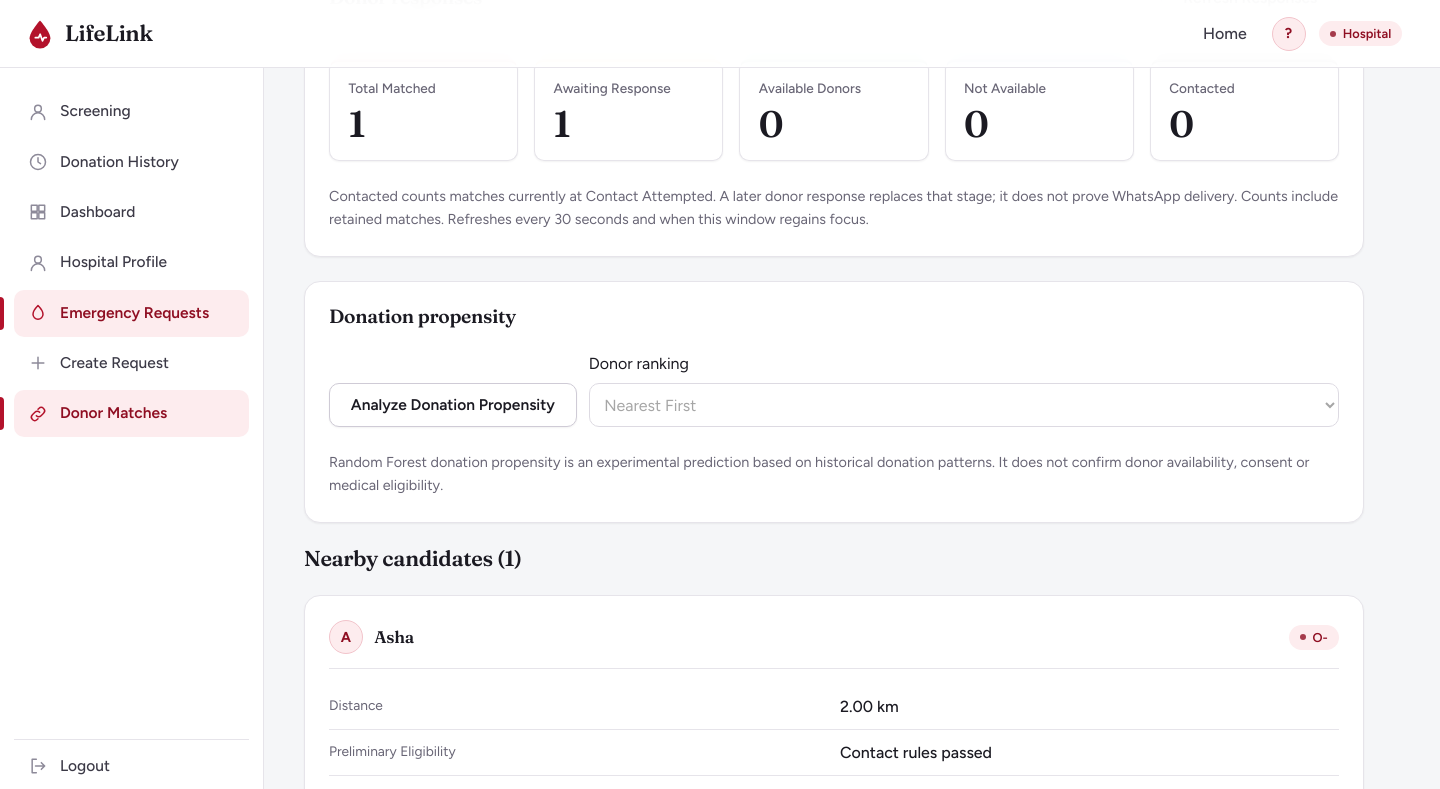
confirmation updates contact status and summary while preserving ML scores
(page scrolled)
Click the button "Analyze Donation Propensity" at (453, 405), box x1=329 y1=383 x2=577 y2=427
(page scrolled)
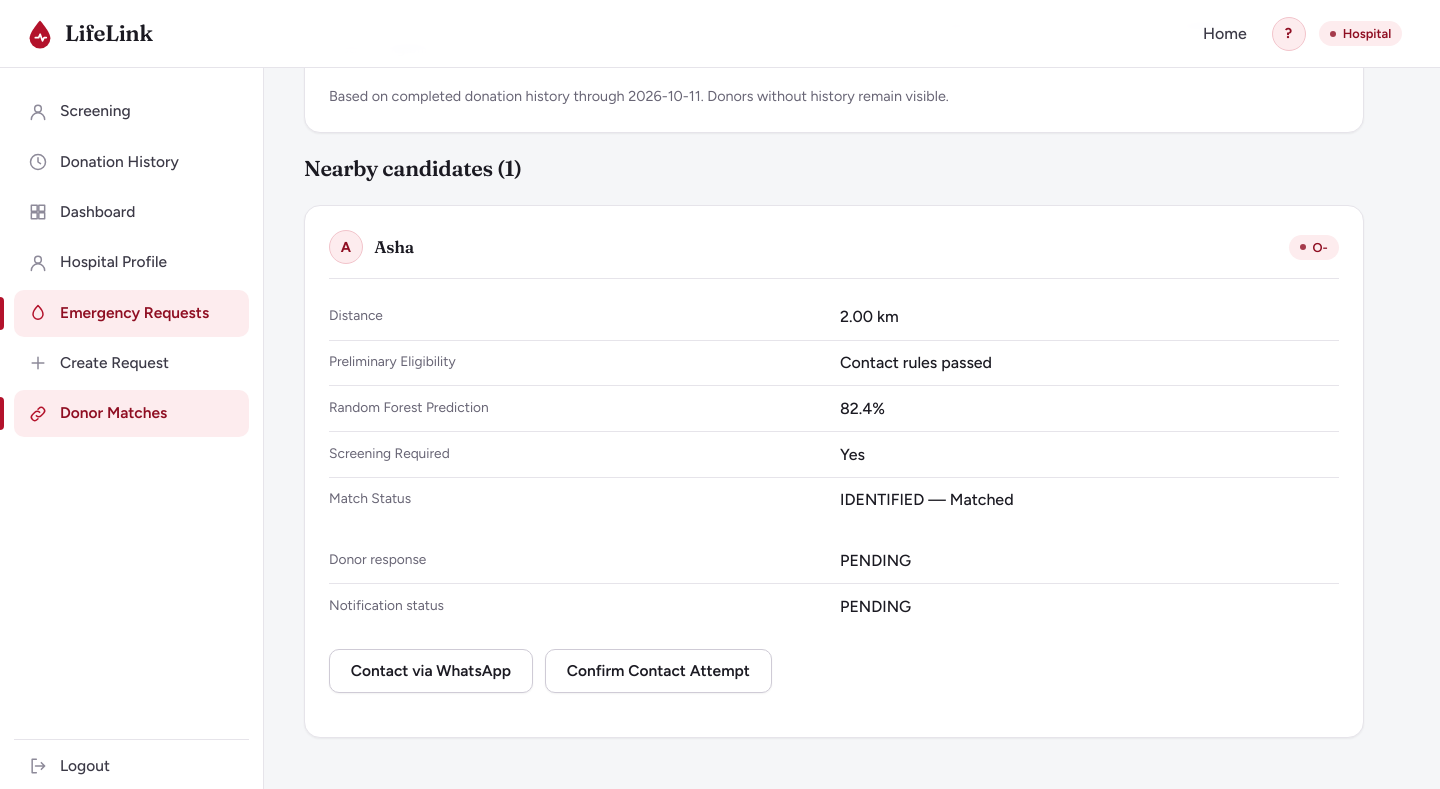
Result: the text "82.4%" is shown at x1=840 y1=399 x2=885 y2=418
Click the button "Confirm Contact Attempt" at (658, 671), box x1=545 y1=649 x2=772 y2=693
(page scrolled)
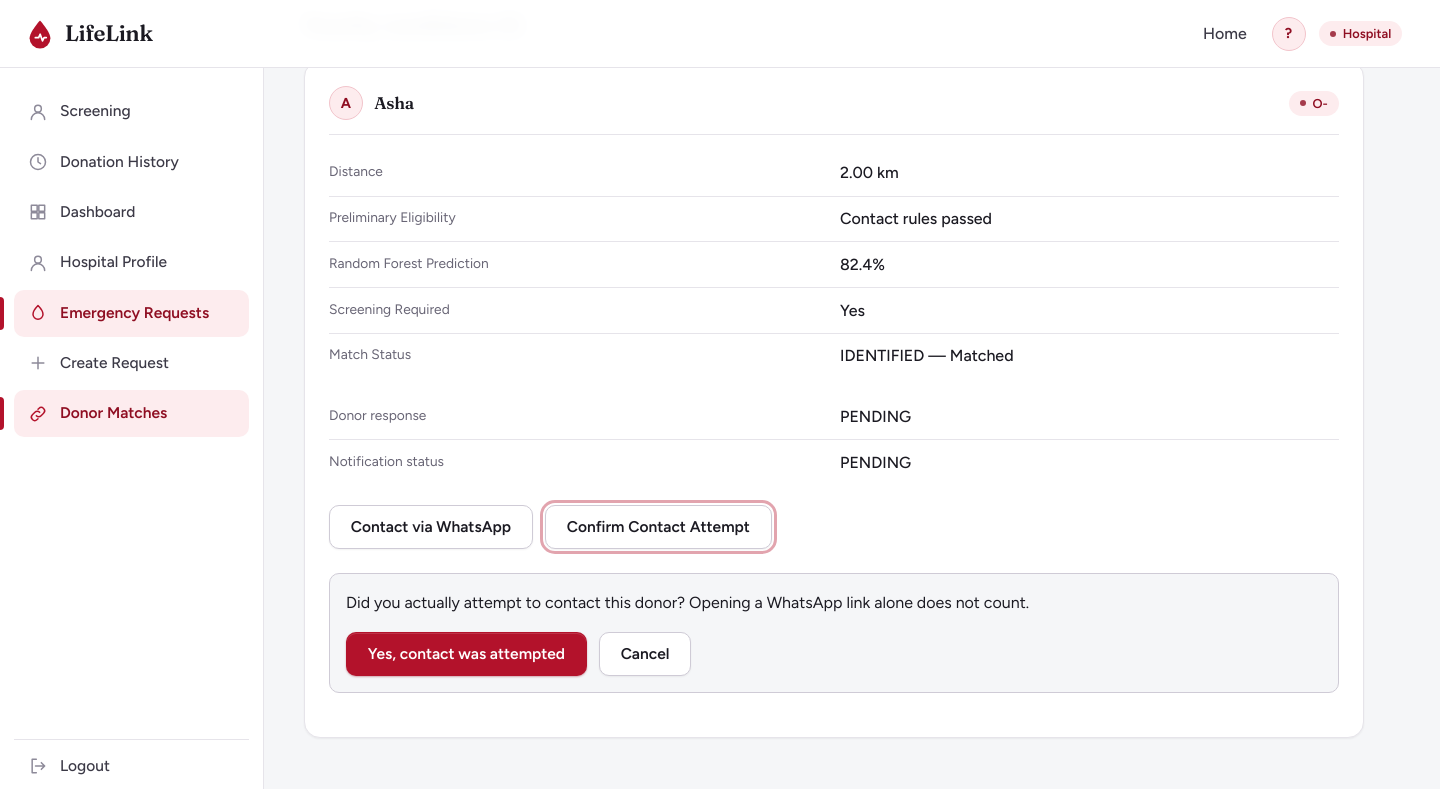
Click the button "Yes, contact was attempted" at (466, 654), box x1=346 y1=632 x2=587 y2=676
(page scrolled)
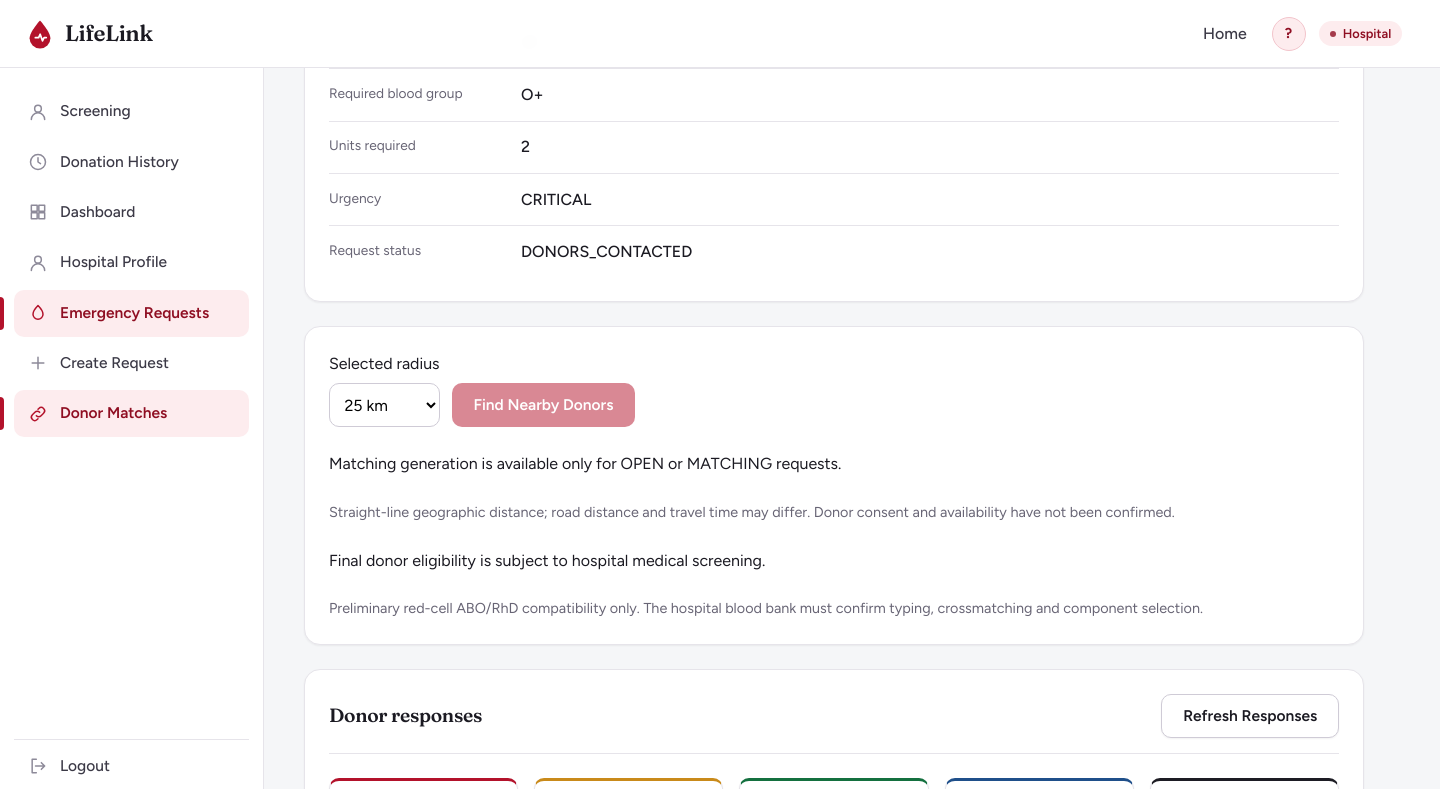
Result: the button "Find Nearby Donors" is disabled at x1=452 y1=383 x2=635 y2=427
Result: the button "Confirm Contact Attempt" is gone
